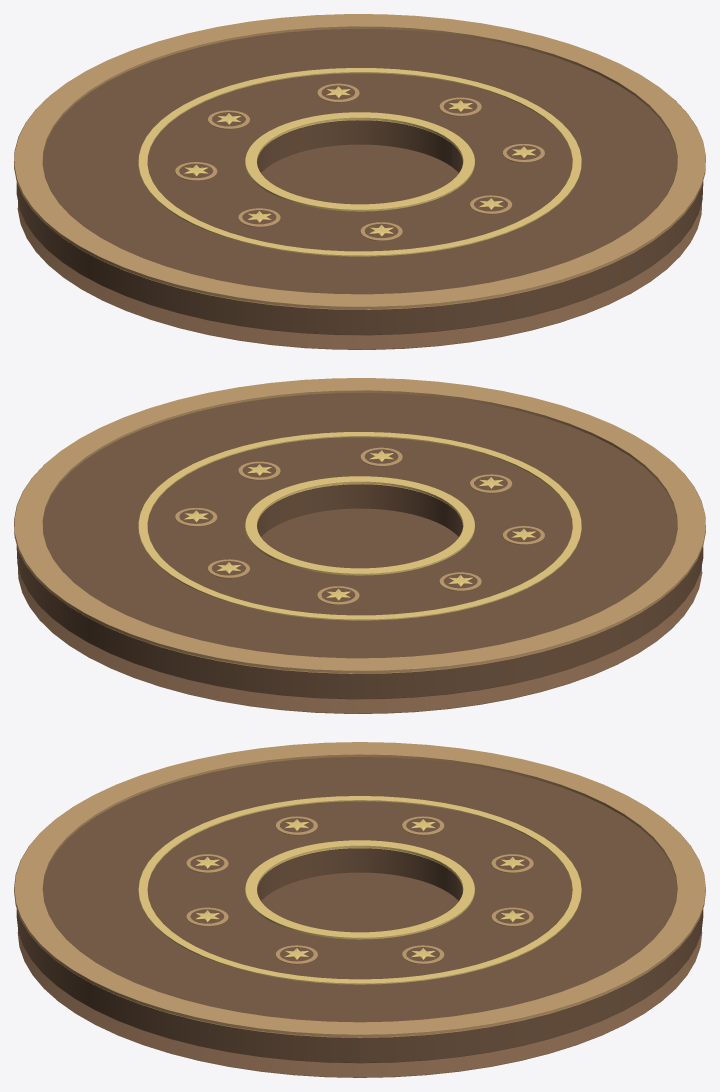
File: boss_arena_deck.glb
The picture shows the model from 3 angles, top to bottom: view 1: azimuth 30°, elevation 25°; view 2: azimuth 150°, elevation 25°; view 3: azimuth 270°, elevation 25°; orthographic projection.
Visible parts, largest first — view 1: OuterWoodDeck, OuterWalnutRim, BottomDrum, MidBrassRing, InnerBrassFrame; view 2: OuterWoodDeck, OuterWalnutRim, BottomDrum, MidBrassRing, InnerBrassFrame; view 3: OuterWoodDeck, OuterWalnutRim, BottomDrum, MidBrassRing, InnerBrassFrame.
Boxes of the visible parts, <box> form: OuterWoodDeck: <box>16,29,703,335</box>; OuterWalnutRim: <box>14,14,705,309</box>; BottomDrum: <box>17,144,702,349</box>; MidBrassRing: <box>138,68,581,256</box>; InnerBrassFrame: <box>245,112,474,211</box>; OuterWoodDeck: <box>16,393,703,699</box>; OuterWalnutRim: <box>14,378,705,673</box>; BottomDrum: <box>17,508,702,713</box>; MidBrassRing: <box>138,432,581,620</box>; InnerBrassFrame: <box>245,476,474,575</box>; OuterWoodDeck: <box>16,757,703,1063</box>; OuterWalnutRim: <box>14,742,705,1037</box>; BottomDrum: <box>17,872,702,1077</box>; MidBrassRing: <box>138,796,581,984</box>; InnerBrassFrame: <box>245,840,474,939</box>.
Bounding box in the file's own units: 37.3 × 2.7 × 37.3.
